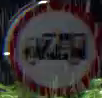Heavy Vehicles: (9, 2, 97, 97)
